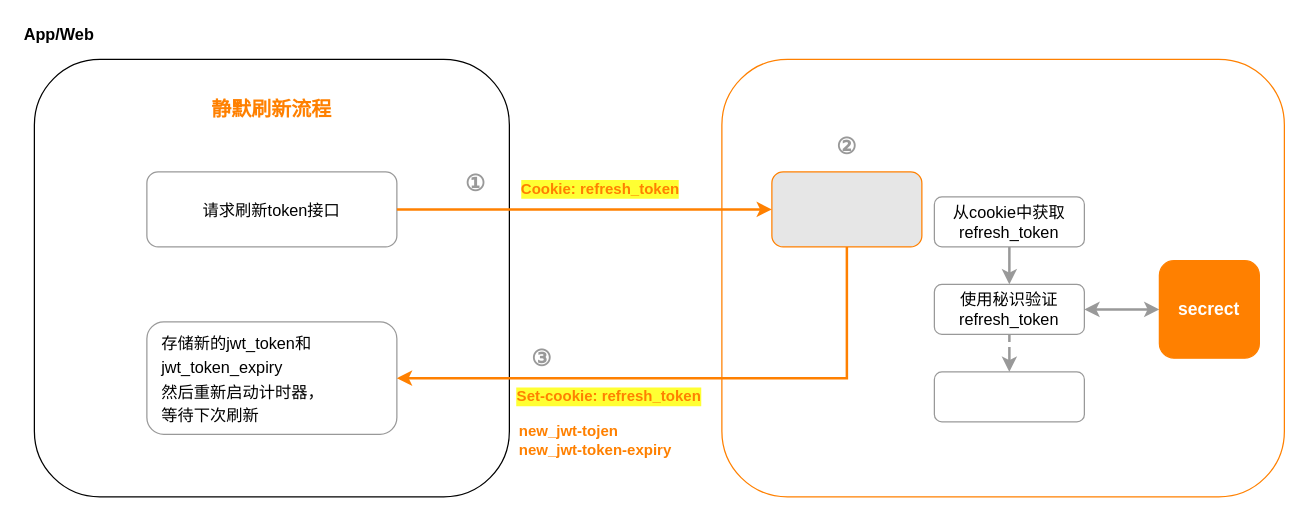
This 1306x519 diagram has some shape labels left out. The box of each missing label's shape, as (x1, y1, x2, y2) in pixels:
/token/refresh: (771, 171, 922, 247)
生成JWT和refresh_token: (933, 371, 1084, 422)
